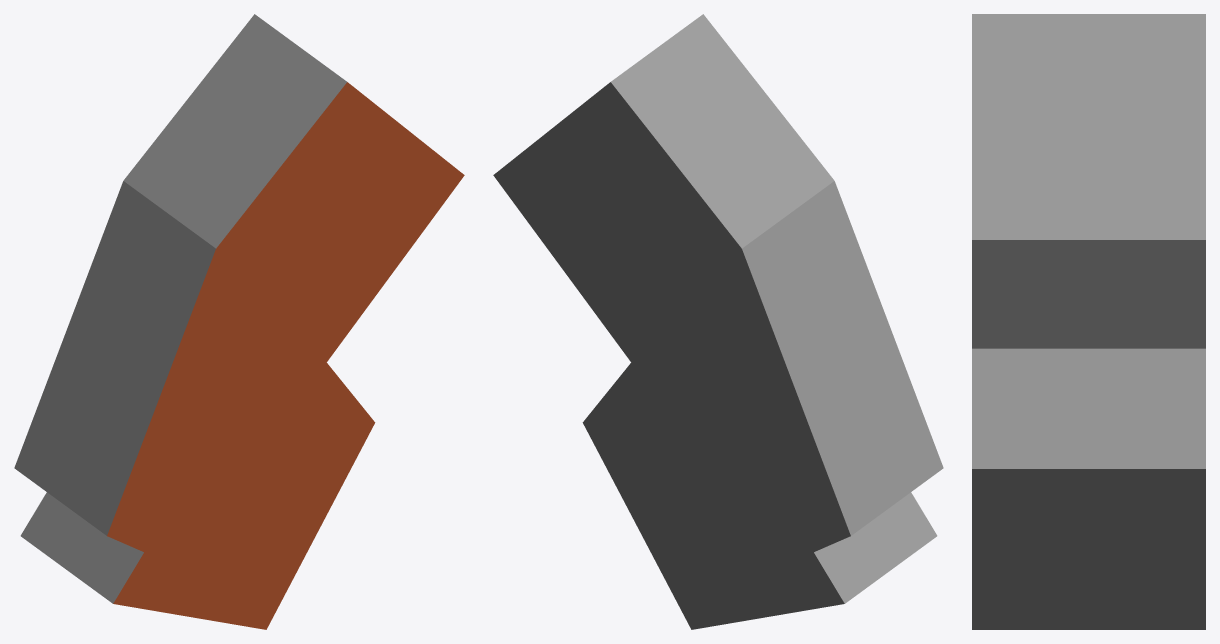
The model's file is construction_0409_assumed_A_Casa_h6m.obj.
The picture shows the model from 3 angles, left to right: view 1: azimuth 30°, elevation 25°; view 2: azimuth 150°, elevation 25°; view 3: azimuth 270°, elevation 25°; orthographic projection. The views are drawn at different scales.
Parts seen in each view (by area): view 1: construction_0409_assumed_A_Casa; view 2: construction_0409_assumed_A_Casa; view 3: construction_0409_assumed_A_Casa.
Boxes of the visible parts, x1=… form: construction_0409_assumed_A_Casa: x1=14, y1=14, x2=464, y2=629; construction_0409_assumed_A_Casa: x1=493, y1=14, x2=943, y2=629; construction_0409_assumed_A_Casa: x1=972, y1=14, x2=1205, y2=629.
Size of the model in its own units: 13.36 by 18.85 by 6.
